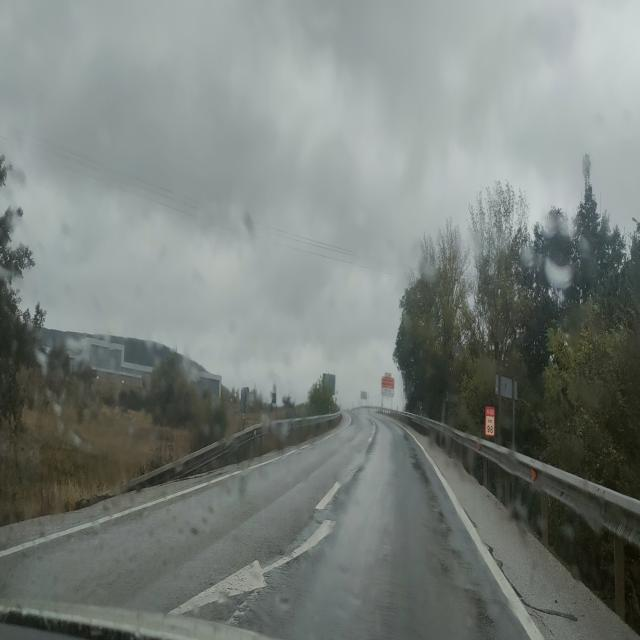Poth-hole: (245, 522, 316, 623)
